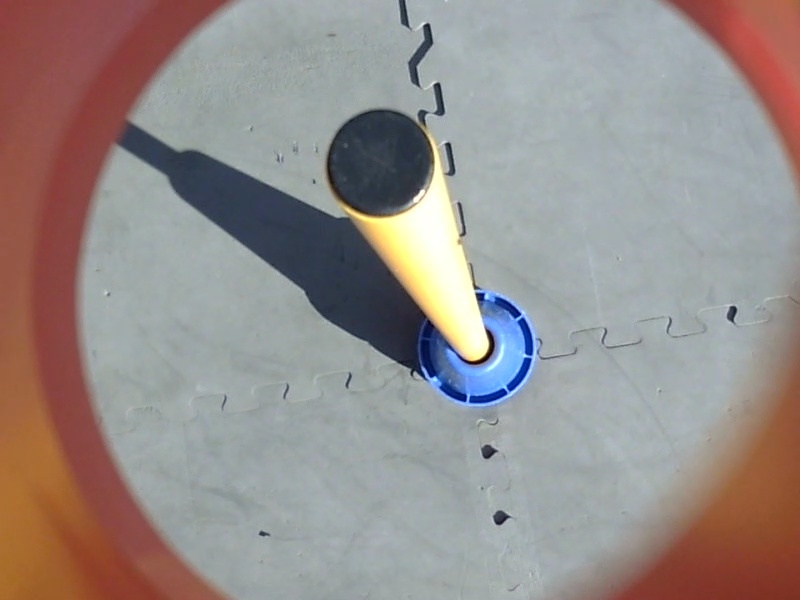tip: (321, 104, 443, 226)
